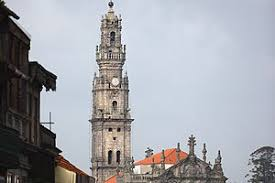clerigos: (87, 0, 135, 182)
